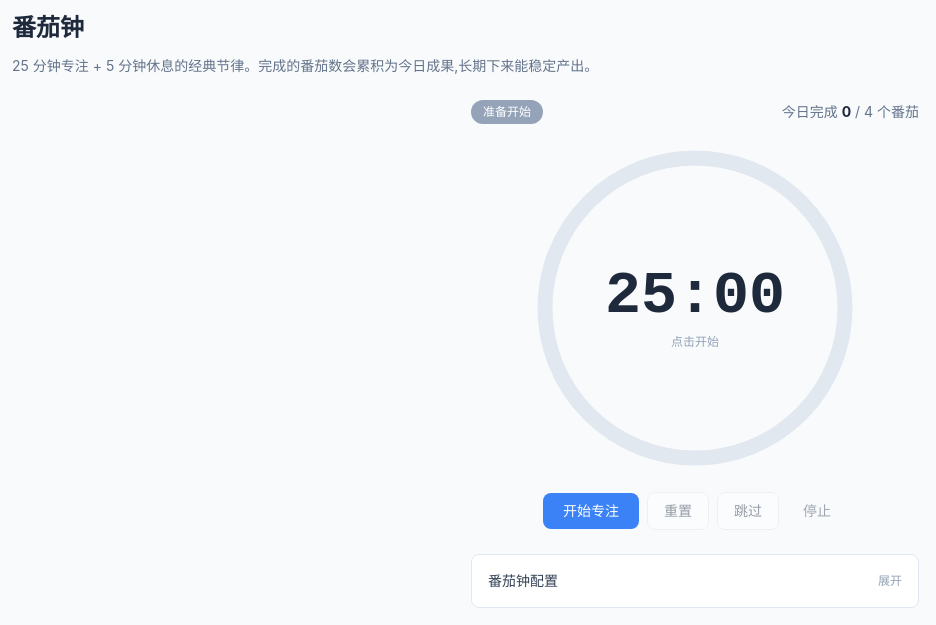
Test: PomodoroPage › 点击"暂停"后按钮变"继续"
Click the button "开始专注".
click(591, 511)  # box [543,493,639,529]
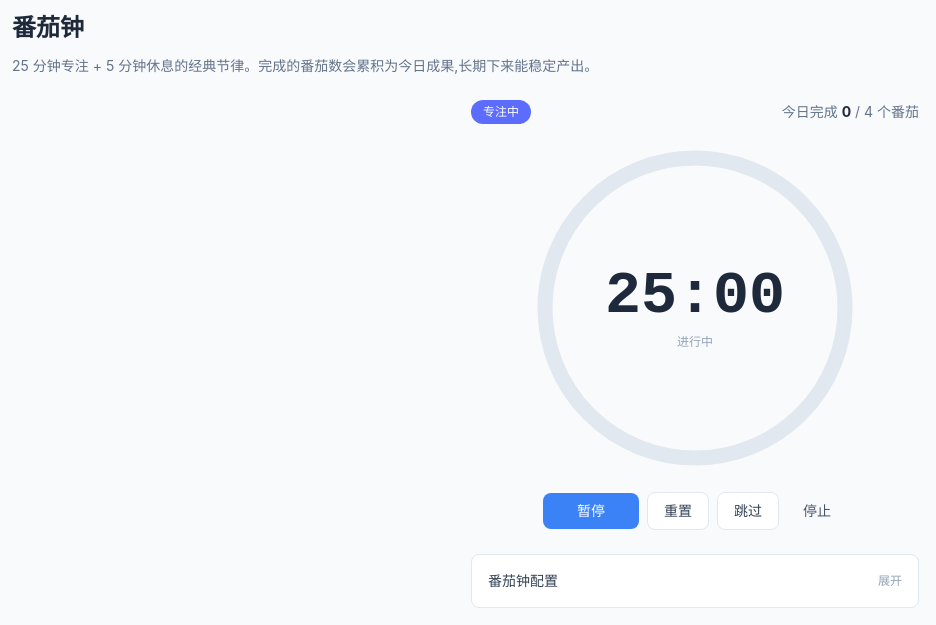
Click the button "暂停".
click(591, 511)  # box [543,493,639,529]
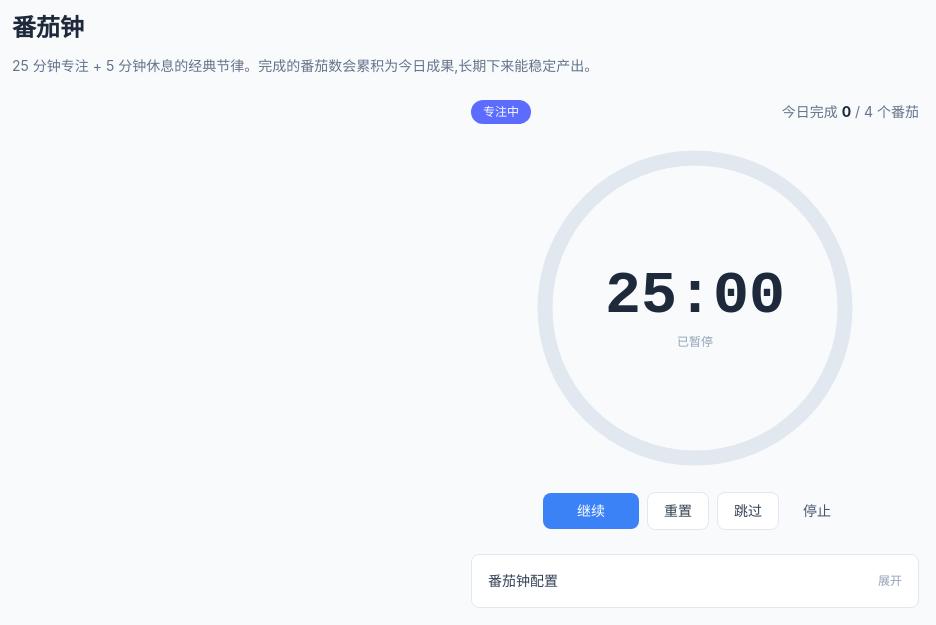
expect the button "继续" is shown: met, box [543,493,639,529]
